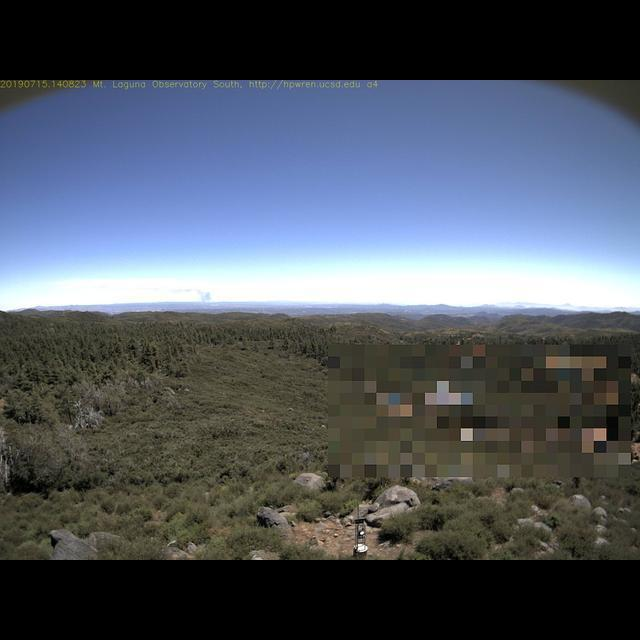Smoke: (179, 285, 215, 304)
